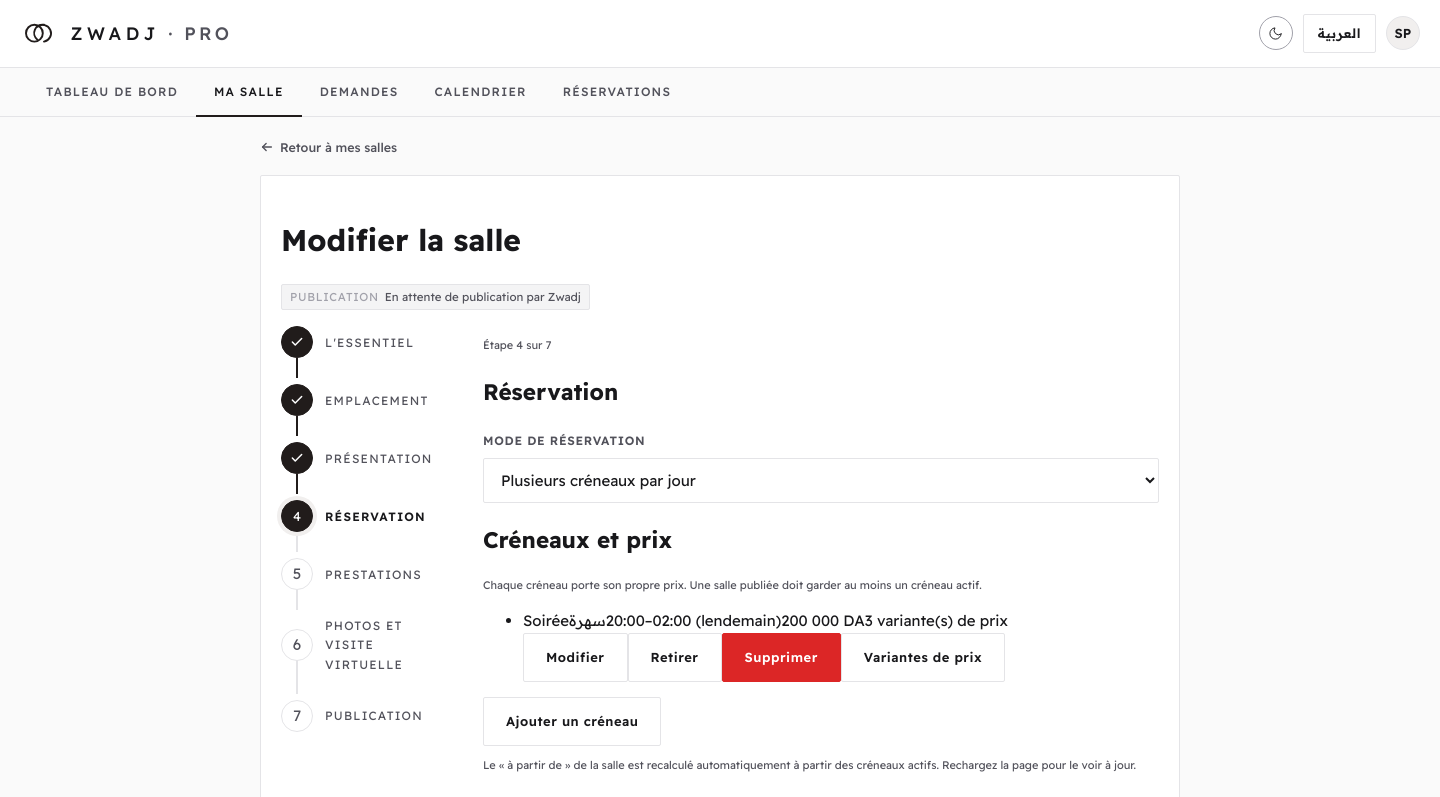
Scenario: Variantes de prix — lecture › l'ordre affiché est celui de la RÉSOLUTION : férié, puis jour, puis saison
Expected: the heading "Réservation" is shown, [483,376,618,406]
Click the button "Variantes de prix" at (923, 658), box [841,633,1005,682]
(page scrolled)
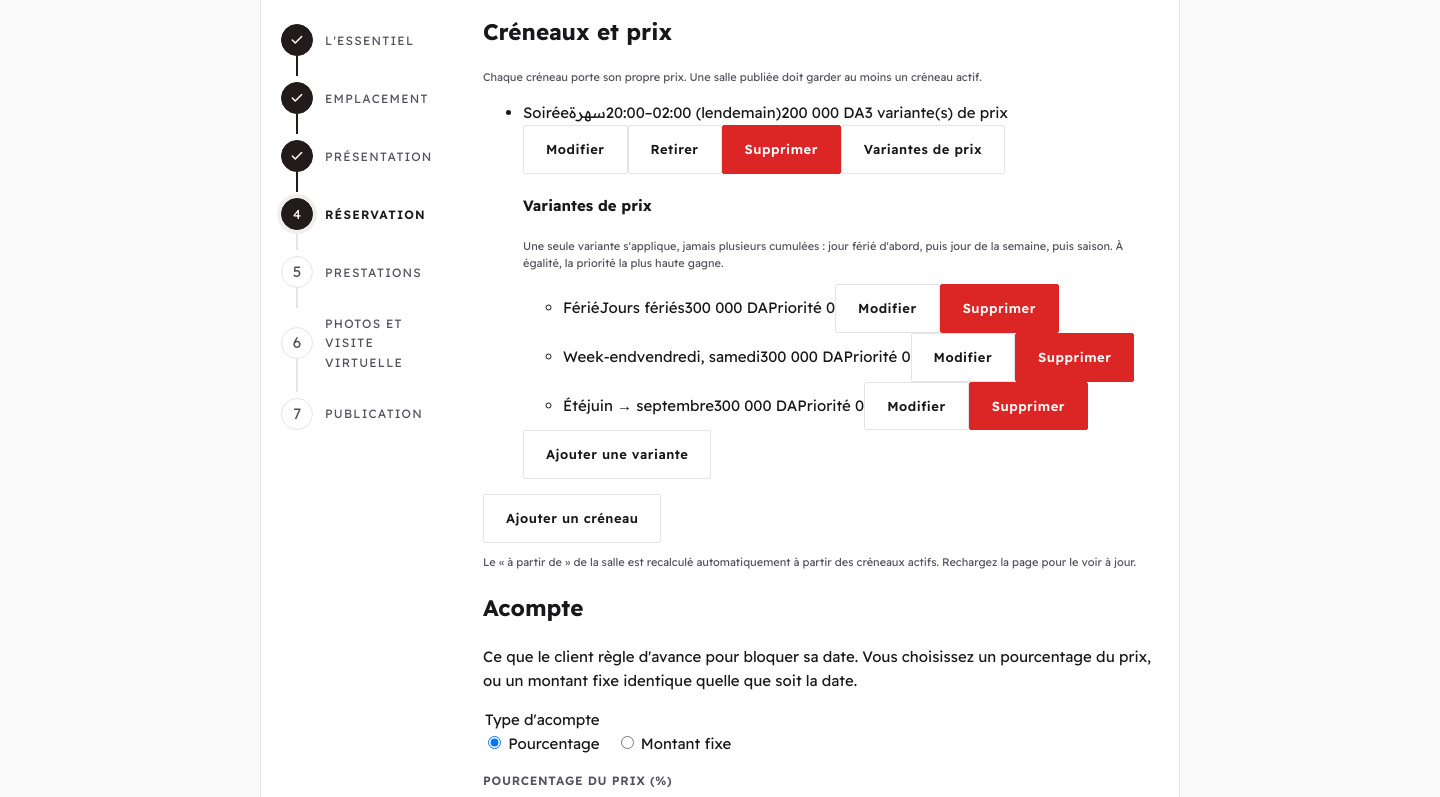
Result: the list item that starts with "Férié" is shown at [563,298,600,317]
Result: the list item that starts with "Week-end" is shown at [563,347,637,366]
Result: the list item that starts with "Été" is shown at [563,396,587,415]
